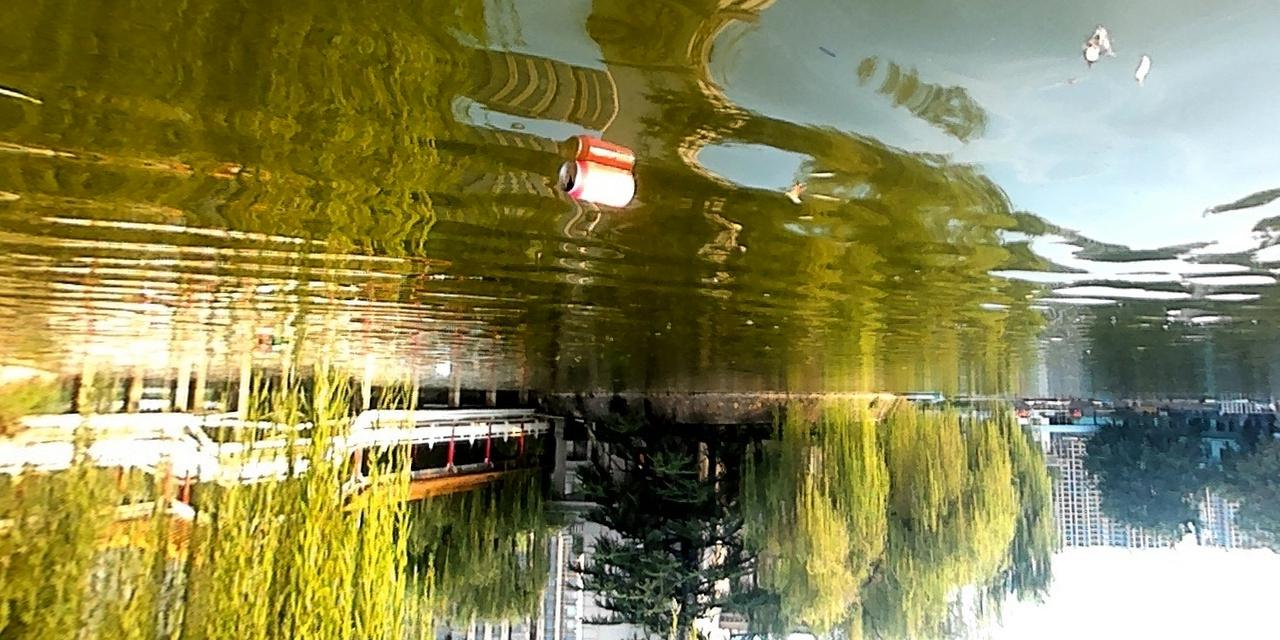Metal: (557, 158, 636, 209)
